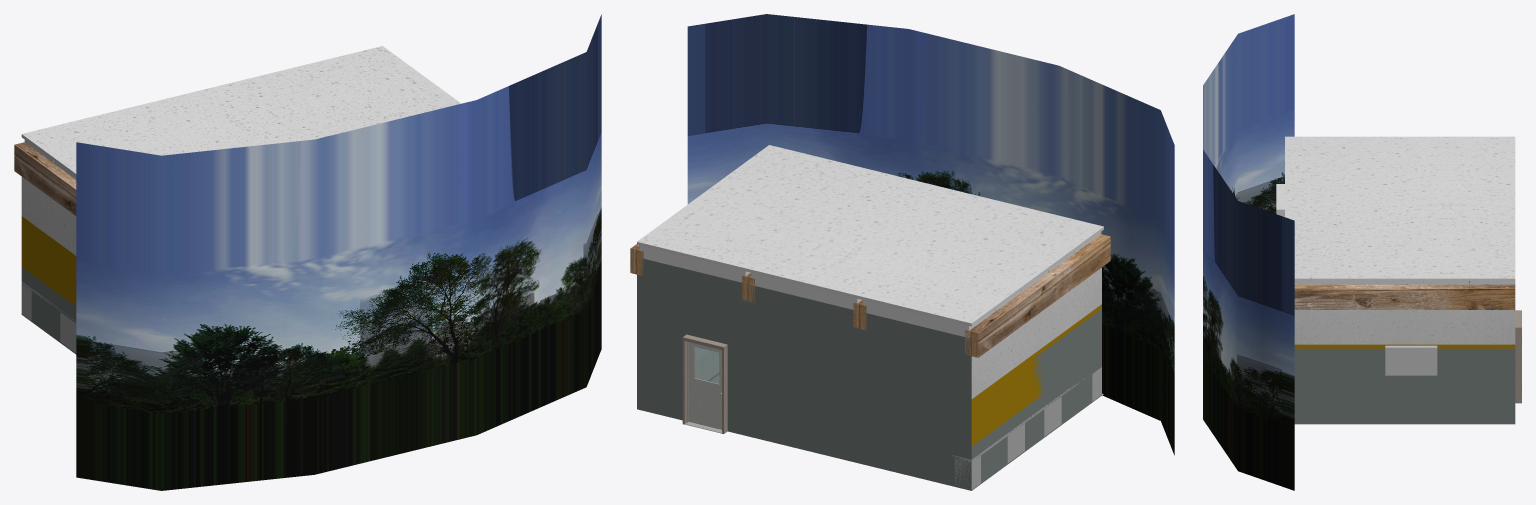
The model's file is jiezhi_changjing.fbx.
The picture shows the model from 3 angles, left to right: view 1: azimuth 30°, elevation 25°; view 2: azimuth 150°, elevation 25°; view 3: azimuth 270°, elevation 25°; orthographic projection. The views are drawn at different scales.
Visible parts, largest first — view 1: waijing, qiang5, qiang4, ding4, qiang3, qiangmian1; view 2: waijing, qiangmian1, qiang5, qiang3, ding4, qiang4, men2, ding7, men1, ding5, ding6, xishoutai2; view 3: waijing, qiang5, qiangmian1, qiang1, ding1, choufeng, qiang4, ding6, men1.
Part boxes in pixels (x1,y1,x2,y2): waijing: (76,14,601,490); qiang5: (21,46,460,176); qiang4: (21,216,76,306); ding4: (14,142,76,215); qiang3: (21,177,76,255); qiangmian1: (21,267,76,354); waijing: (687,14,1174,455); qiangmian1: (637,258,1101,490); qiang5: (637,145,1103,326); qiang3: (971,267,1101,398); ding4: (965,234,1110,357); qiang4: (637,304,1101,446); men2: (688,342,721,429); ding7: (863,232,1101,337); men1: (682,334,727,433); ding5: (751,273,861,309); ding6: (639,245,750,282); xishoutai2: (696,347,718,380); waijing: (1203,14,1294,490); qiang5: (1285,136,1515,281); qiangmian1: (1294,348,1515,424); qiang1: (1294,310,1515,344); ding1: (1294,283,1515,309); choufeng: (1385,345,1437,375); qiang4: (1294,344,1515,348); ding6: (1294,281,1515,284); men1: (1515,310,1521,403).
Bounding box in the file's own units: 1244 × 759 × 811.
